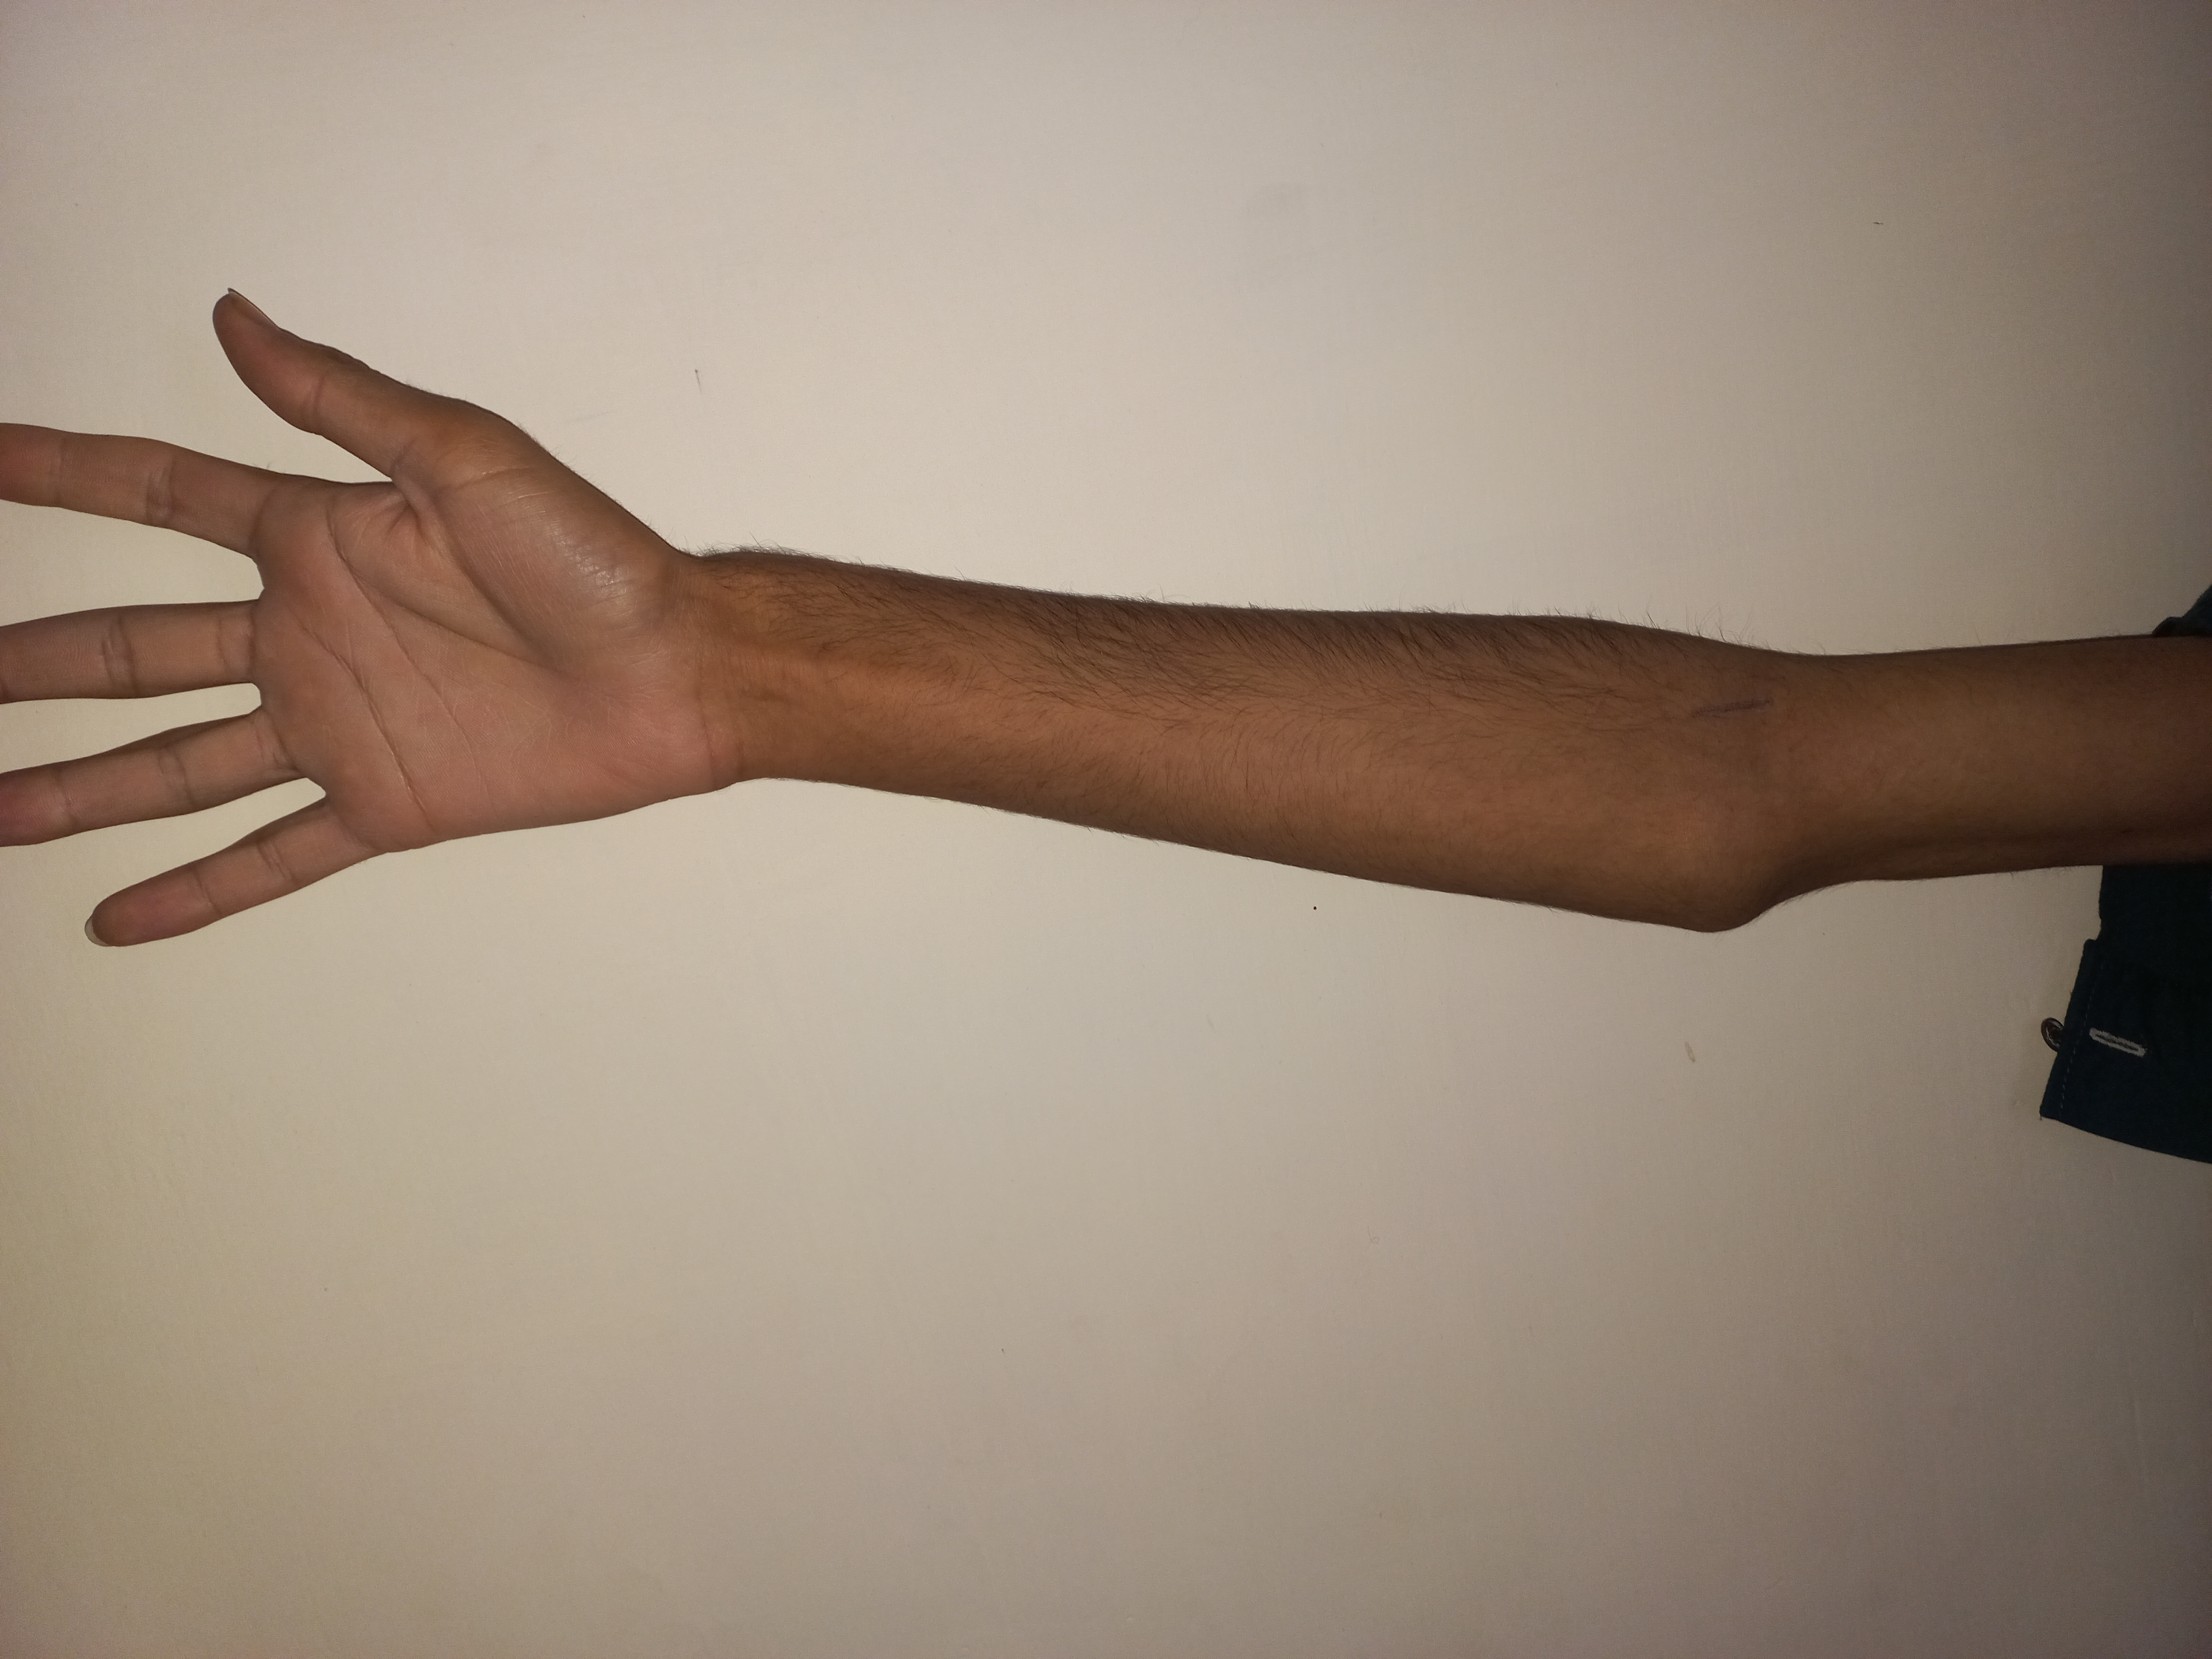vein: (1689, 690, 1803, 728)
